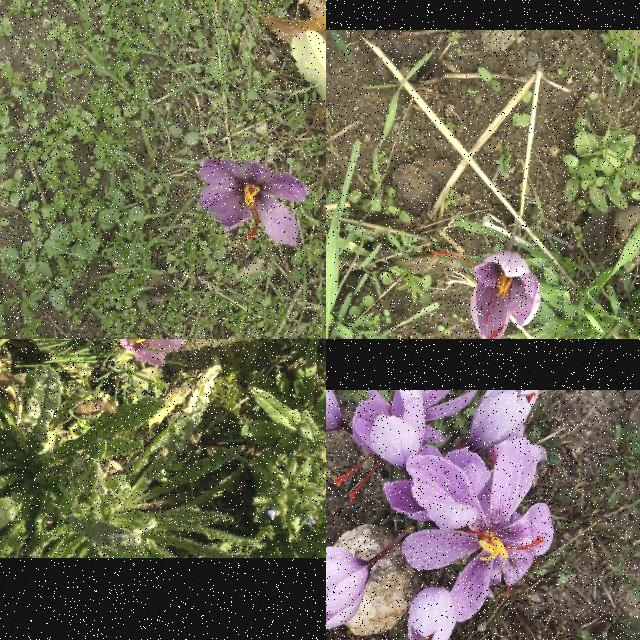flower: (400, 437, 556, 623), (332, 391, 426, 503), (196, 158, 312, 248), (429, 250, 541, 339), (466, 390, 542, 454), (326, 547, 370, 634), (407, 582, 457, 640), (117, 339, 199, 367), (326, 390, 345, 447)
overlap: (366, 391, 556, 624)
